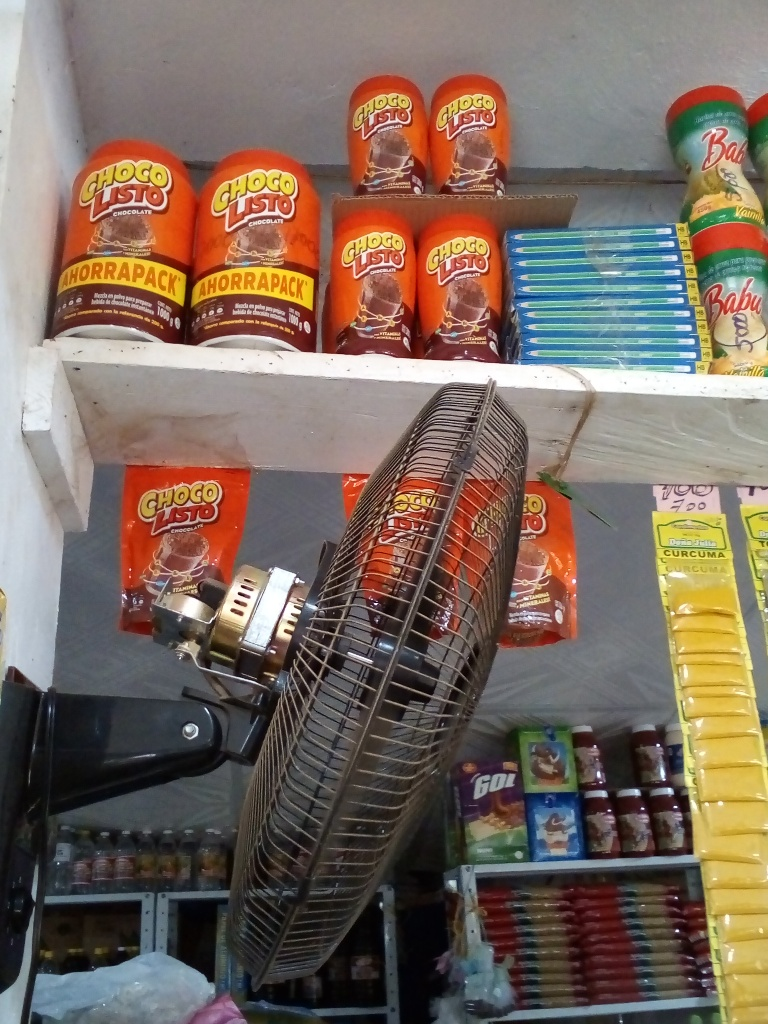COL0170103TRR00100: (48, 126, 197, 345)
